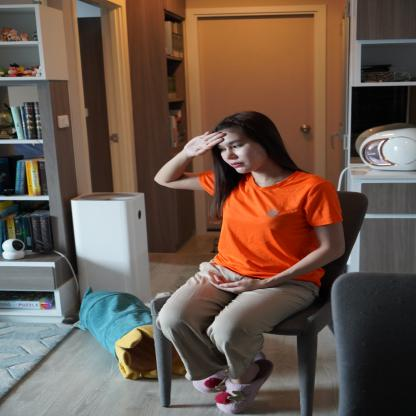Sick: (157, 124, 259, 160)
